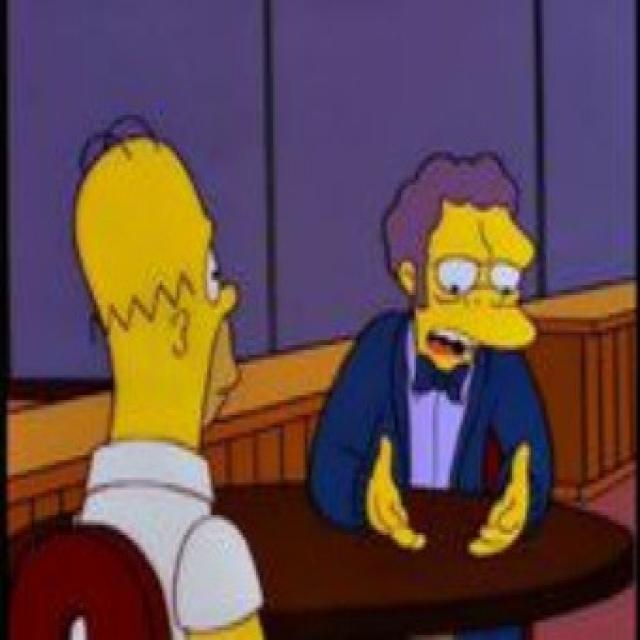Homer Simpson: (68, 114, 244, 461)
